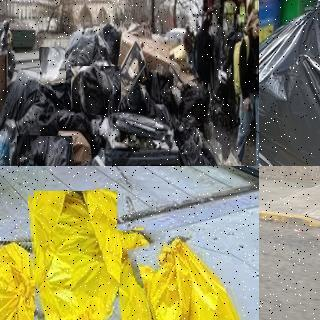Garbage: (30, 189, 120, 320), (140, 228, 259, 320), (259, 0, 320, 166), (75, 228, 163, 320), (0, 241, 62, 320), (71, 66, 121, 115), (173, 80, 210, 129), (16, 135, 72, 166), (39, 47, 66, 84)
